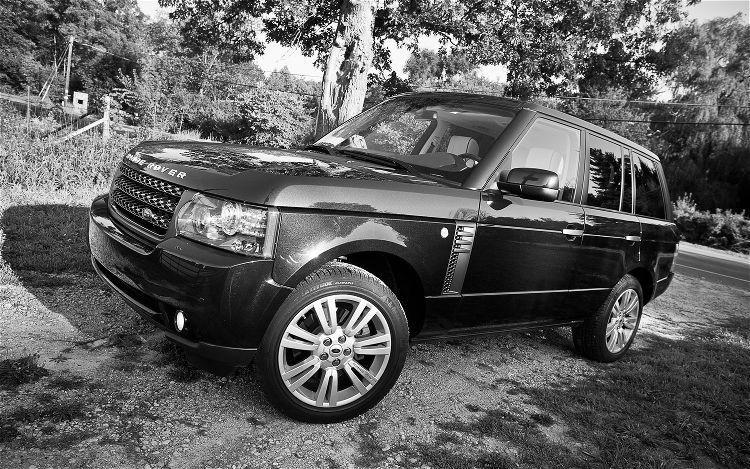car: (84, 89, 686, 424)
